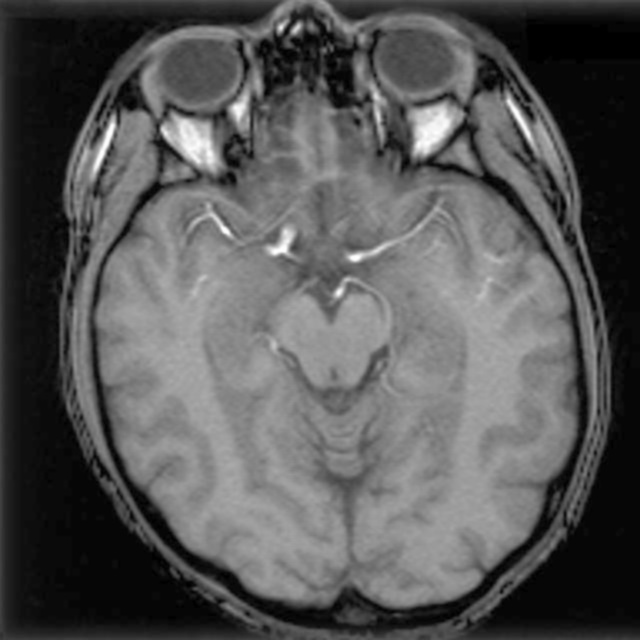glioma tumor: (157, 51, 537, 573)
